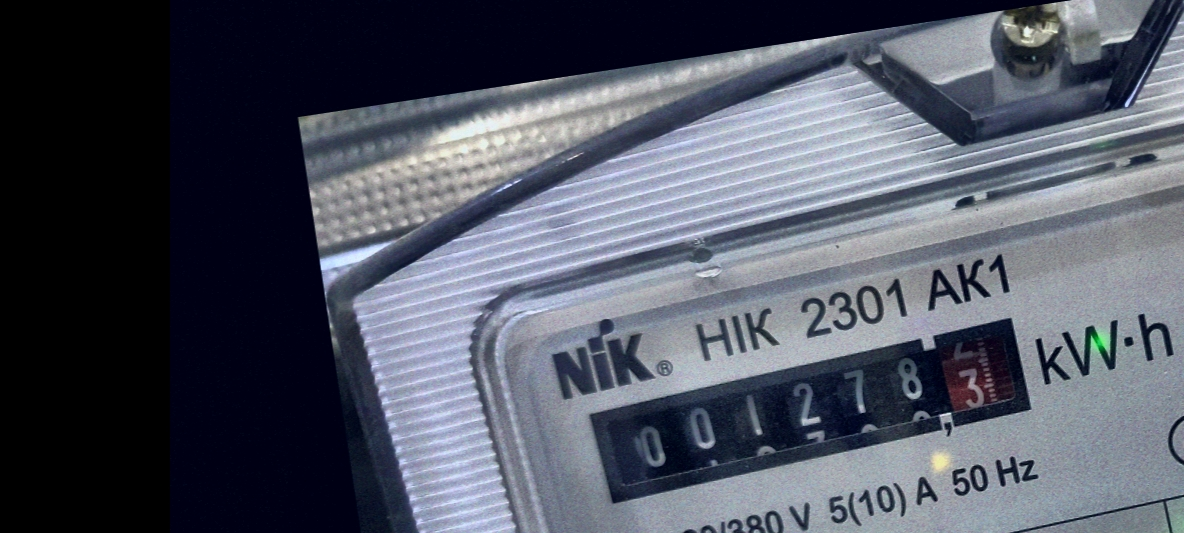0: (636, 419, 670, 470), (685, 403, 718, 453)
1: (741, 388, 767, 437)
2: (790, 378, 823, 428), (949, 338, 975, 360)
3: (955, 364, 988, 411)
7: (841, 366, 870, 415)
8: (895, 354, 925, 401)
screen: (569, 302, 1054, 518)
